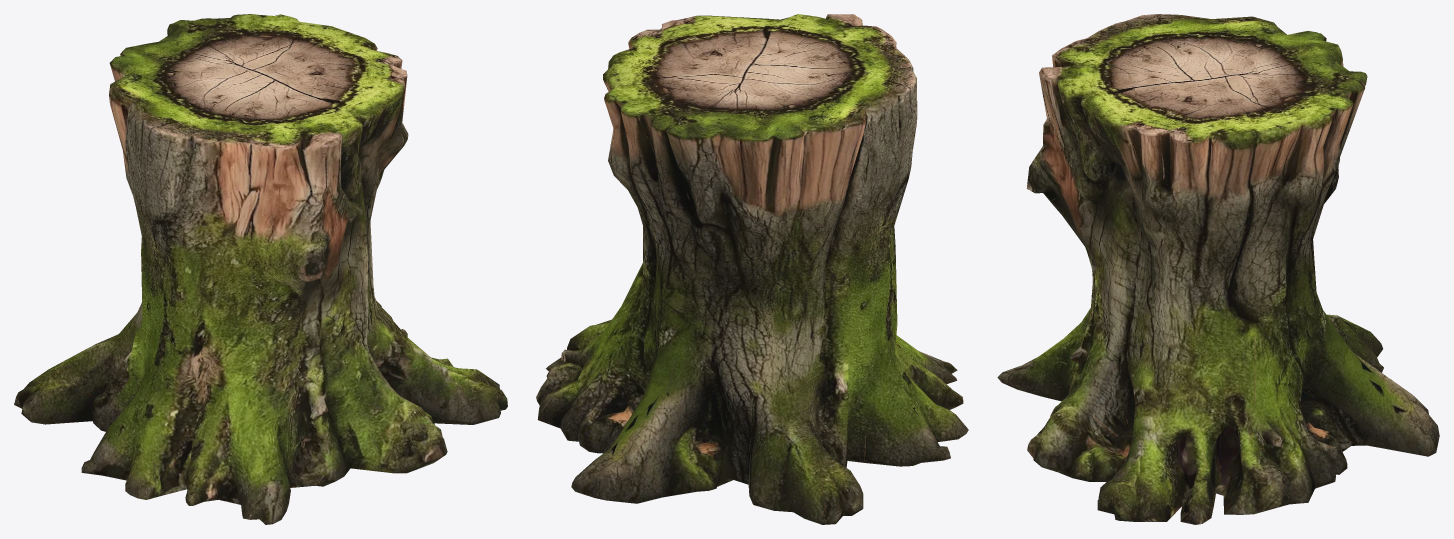
The model's file is stump-mossy.glb.
The picture shows the model from 3 angles, left to right: view 1: azimuth 30°, elevation 25°; view 2: azimuth 150°, elevation 25°; view 3: azimuth 270°, elevation 25°; orthographic projection.
Parts seen in each view (by area): view 1: Mesh1.0; view 2: Mesh1.0; view 3: Mesh1.0.
Boxes of the visible parts, <box> form: Mesh1.0: <box>14,14,507,524</box>; Mesh1.0: <box>536,14,968,524</box>; Mesh1.0: <box>997,14,1439,524</box>.
Size of the model in its own units: 1.9 by 1.6 by 1.84.
1 material, 1 textured.
